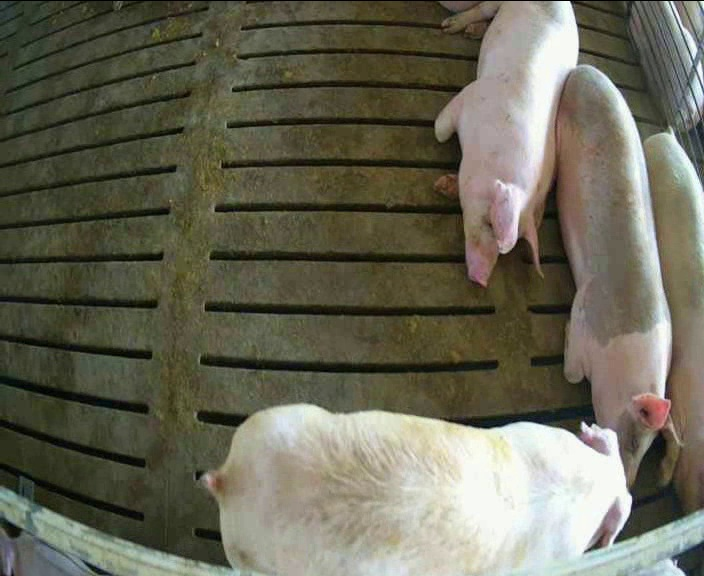pig: (206, 404, 630, 573), (556, 65, 683, 483), (432, 2, 578, 285), (644, 126, 703, 510)
